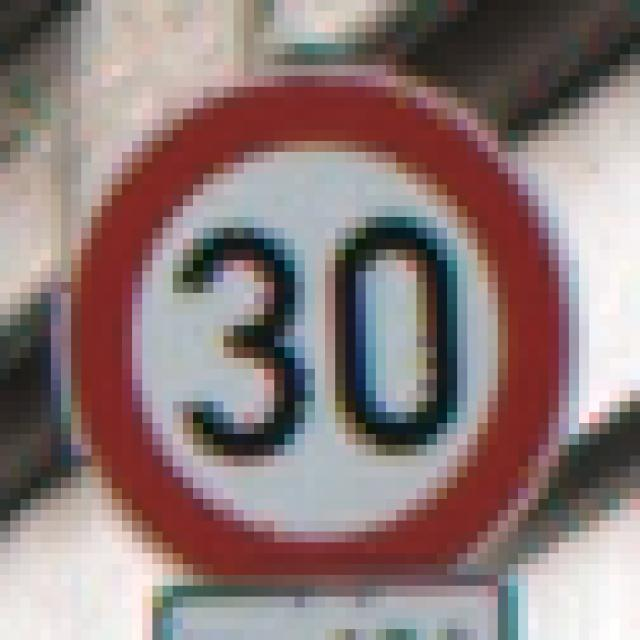Speed Limit -30-: (46, 48, 574, 580)
